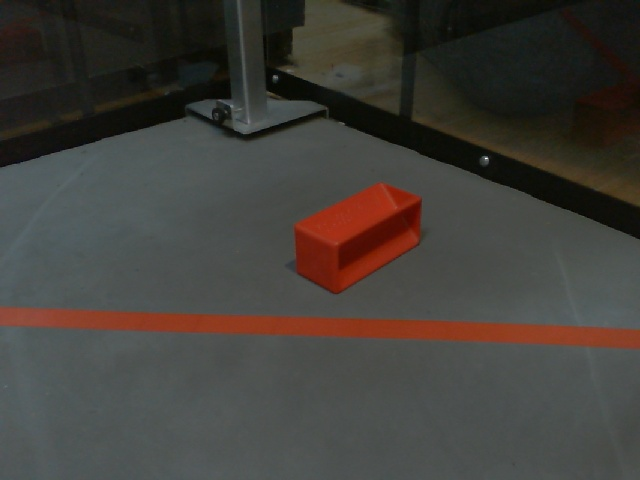RedSample: (290, 180, 425, 297)
